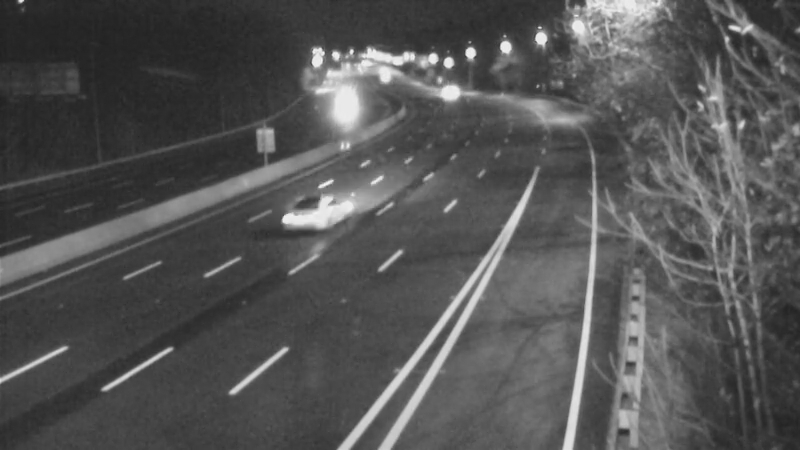vehicle: (270, 171, 350, 251), (357, 54, 407, 104), (421, 68, 471, 118), (318, 83, 368, 133)
